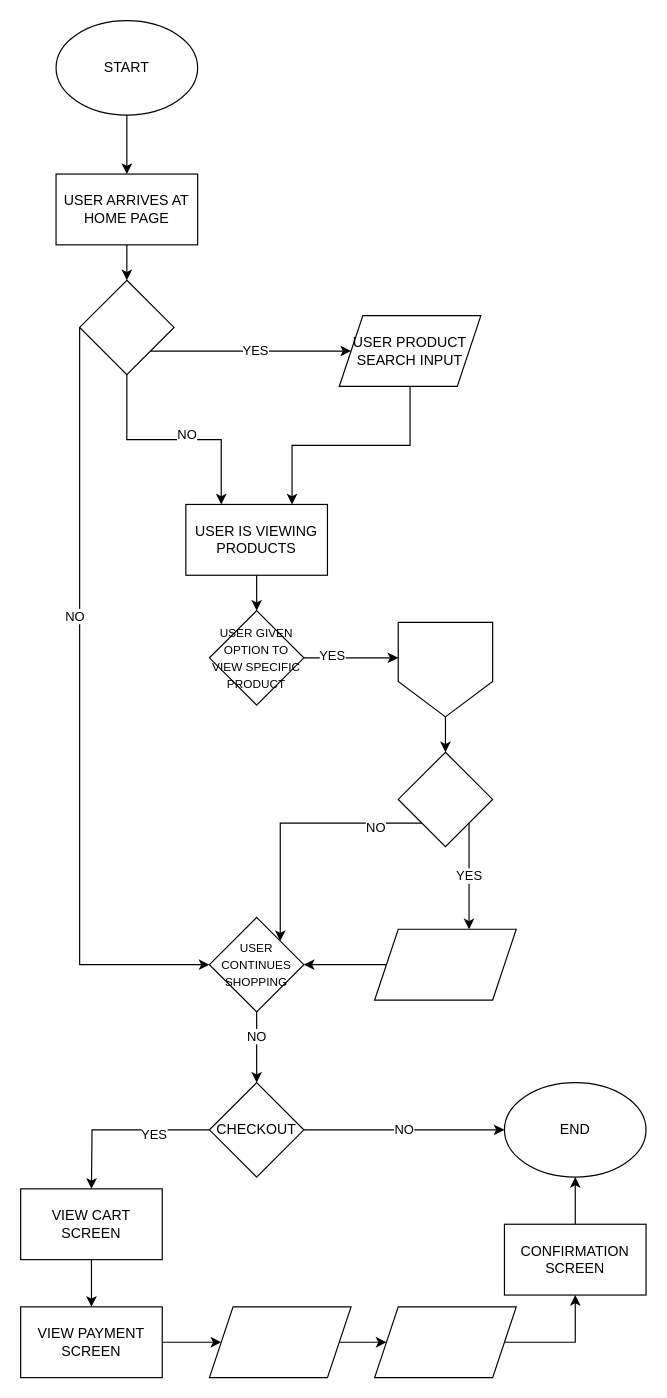
This 667x1398 diagram has some shape labels left out. Each missing label, with the box of its shape:
USER ADDS ITEM TO CART: (397, 751, 493, 847)
USER INPUTS PAYMENT INFORMATION: (208, 1306, 351, 1378)
USER RECIEVES ADDED TO CART CONFIRMATION: (373, 928, 516, 1000)
USER RECIEVES ORDER CONFIRMATION: (373, 1306, 516, 1378)
USER SEARCHES FOR PRODUCT: (78, 279, 174, 375)
USER VISITS PRODUCT WEBSITE: (397, 621, 493, 717)
